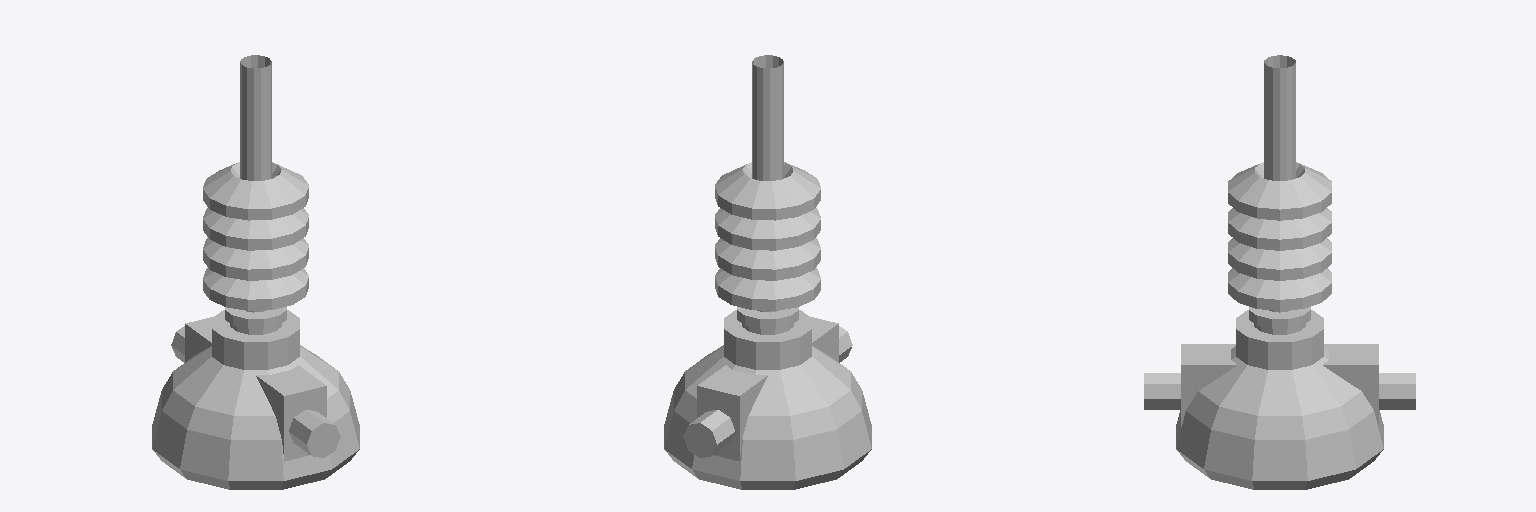
The model's file is ledlamp.obj.
3 views of the same model, side by side, from view 1: azimuth 30°, elevation 25°; view 2: azimuth 150°, elevation 25°; view 3: azimuth 270°, elevation 25° (orthographic).
Parts seen in each view (by area): view 1: LightDish, LightPole.001; view 2: LightDish, LightPole.001; view 3: LightDish, LightPole.001.
Part boxes in pixels (left/top/right/bottom): LightDish: left=152, top=307, right=359, bottom=489; LightPole.001: left=203, top=55, right=308, bottom=312; LightDish: left=664, top=307, right=871, bottom=489; LightPole.001: left=715, top=55, right=820, bottom=312; LightDish: left=1144, top=307, right=1415, bottom=489; LightPole.001: left=1228, top=55, right=1331, bottom=312.
Bounding box in the file's own units: 0.1874 × 0.3864 × 0.2448.